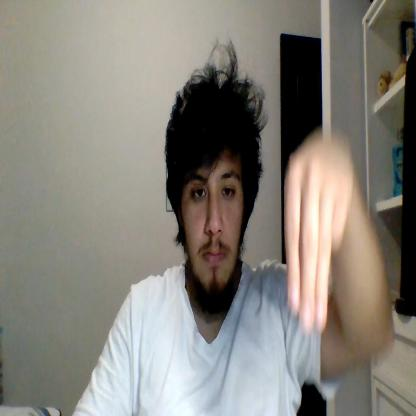M: (285, 128, 353, 330)
